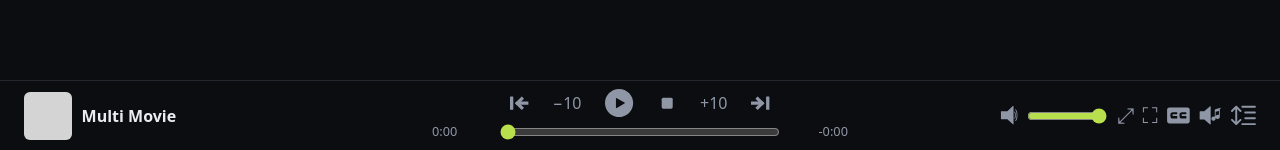
Test: NowPlayingBar — Audio menu › shows the busy/retry UX when a direct-play escalation hits SERVER_BUSY
Click the 1st button with test id "now-playing-audio": (1211, 116) left=1198, top=103, right=1223, bottom=128
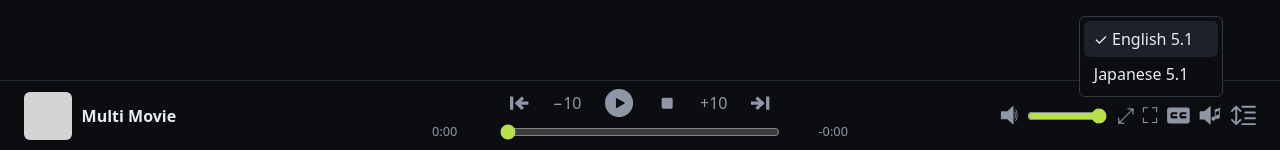
Click the menu item "Japanese 5.1": (1151, 74) left=1084, top=56, right=1218, bottom=92
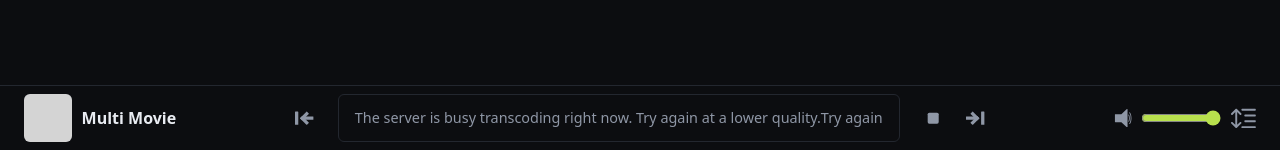
Expected: the element with test id "player-busy" is shown, left=338, top=94, right=900, bottom=142
Expected: the button with test id "player-busy-retry" is shown, left=821, top=107, right=883, bottom=129
